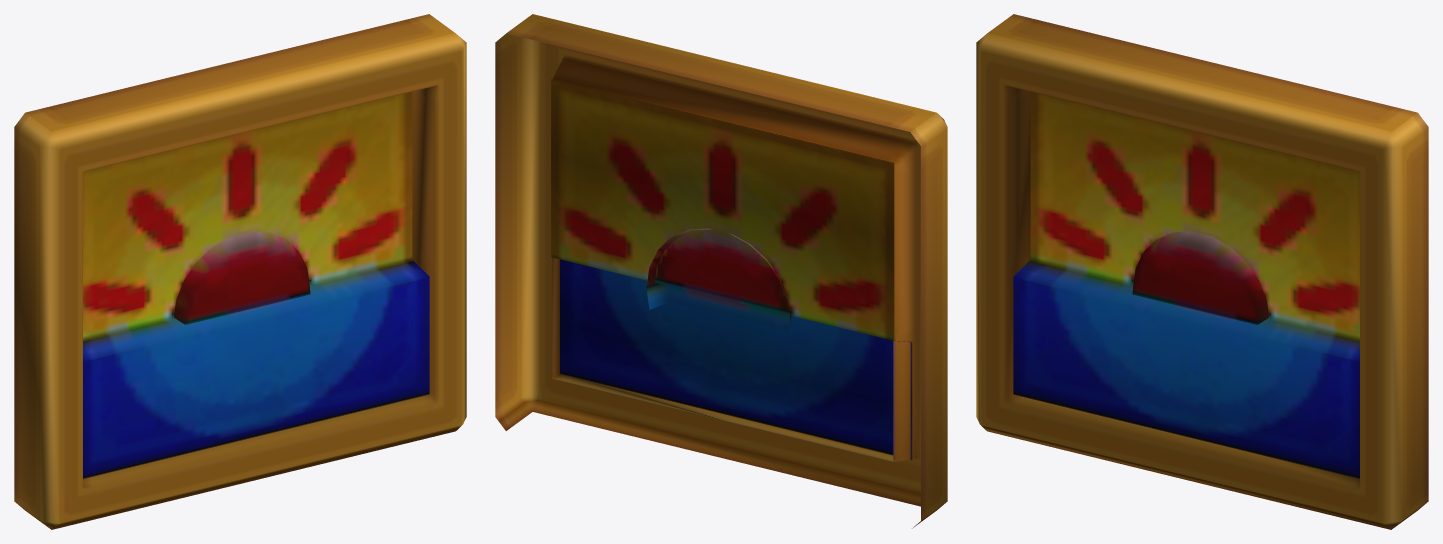
The model's file is int_mon_01.dae.
3 renders of one model, left to right at view 1: azimuth 30°, elevation 25°; view 2: azimuth 150°, elevation 25°; view 3: azimuth 330°, elevation 25°, orthographic.
Parts seen in each view (by area): view 1: int_mon_01; view 2: int_mon_01; view 3: int_mon_01.
Boxes of the visible parts, box(x1,y1,x2,y2) form: int_mon_01: box(14, 14, 466, 529); int_mon_01: box(495, 14, 947, 528); int_mon_01: box(976, 14, 1428, 529).
Size of the model in its own units: 29.51 by 26.36 by 4.03.
Materials: 1 (1 with a texture image).
